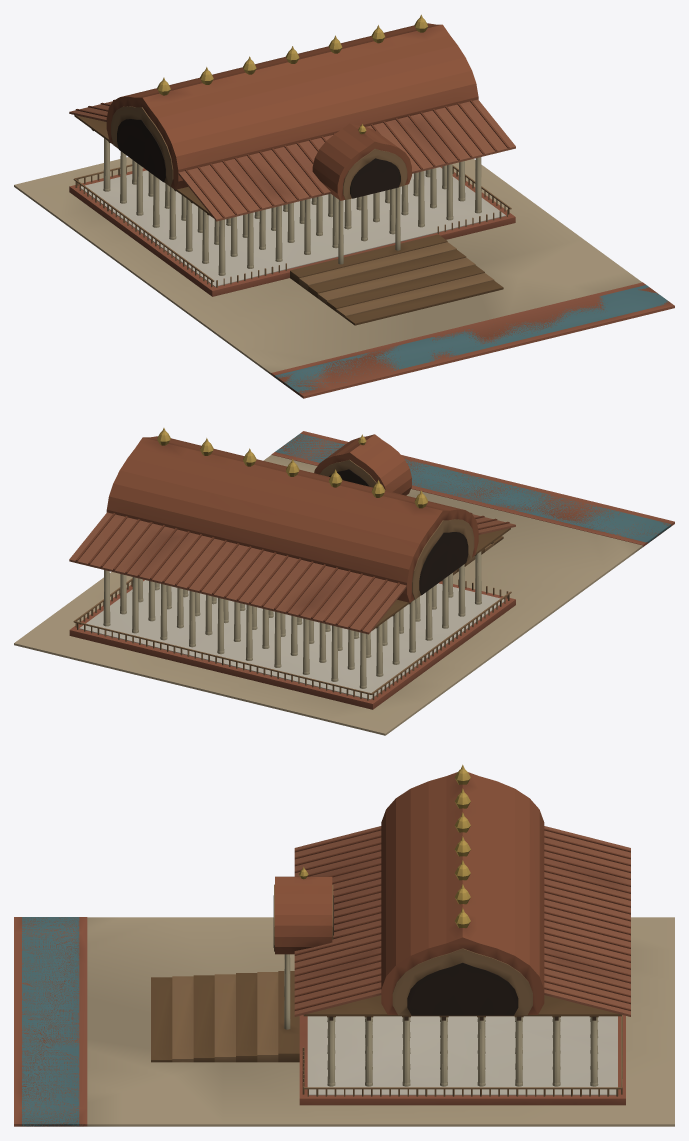
File: pillared-hall.glb
The picture shows the model from 3 angles, top to bottom: view 1: azimuth 30°, elevation 25°; view 2: azimuth 150°, elevation 25°; view 3: azimuth 270°, elevation 25°; orthographic projection. The views are drawn at different scales.
Parts seen in each view (by area): view 1: p0_floor and landing, p3_roof, p1_columns, p2_beams; view 2: p0_floor and landing, p3_roof, p1_columns, p2_beams; view 3: p0_floor and landing, p3_roof, p1_columns, p2_beams.
Boxes of the visible parts, x1,y1,x2,y2 form: p0_floor and landing: [14, 157, 674, 398]; p3_roof: [69, 14, 515, 221]; p1_columns: [103, 138, 481, 275]; p2_beams: [73, 129, 511, 287]; p0_floor and landing: [14, 431, 674, 735]; p3_roof: [69, 428, 515, 634]; p1_columns: [103, 551, 481, 688]; p2_beams: [73, 542, 511, 700]; p0_floor and landing: [14, 917, 674, 1126]; p3_roof: [273, 764, 630, 1016]; p1_columns: [284, 954, 598, 1086]; p2_beams: [302, 1015, 622, 1096].
Size of the model in its own units: 60 by 25.3 by 81.
